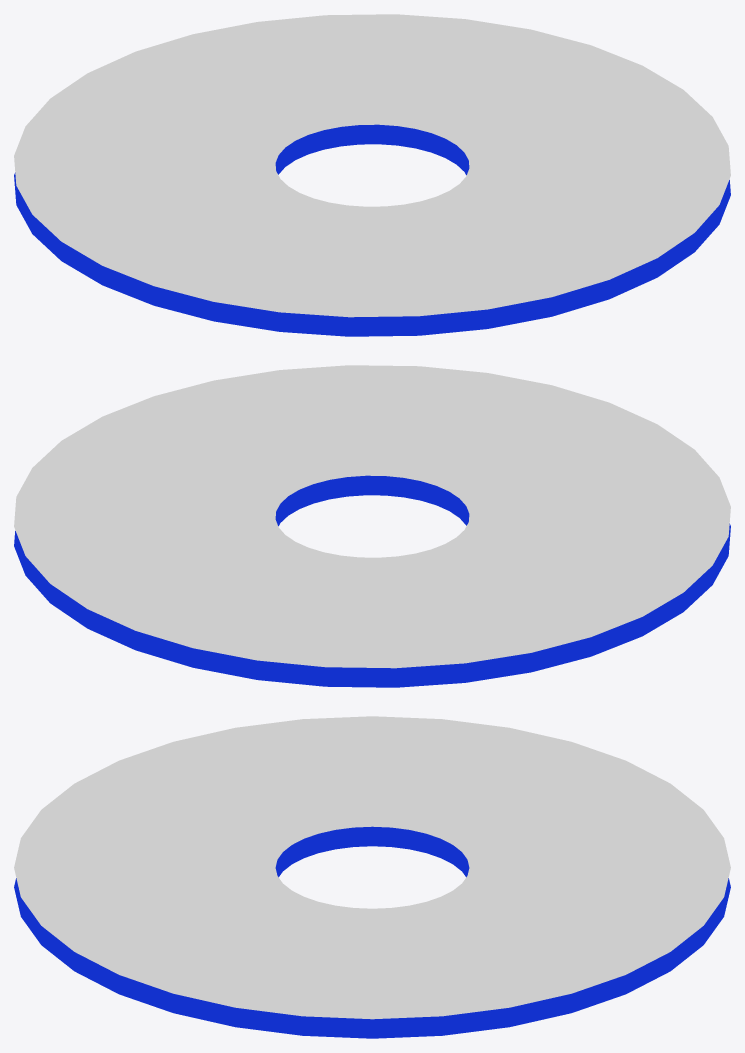
File: disc.glb
3 views of the same model, one above another, from view 1: azimuth 30°, elevation 25°; view 2: azimuth 150°, elevation 25°; view 3: azimuth 270°, elevation 25° (orthographic).
Visible parts, largest first — view 1: Front, Circle; view 2: Front, Circle; view 3: Front, Circle.
Part boxes in pixels (x1,y1,x2,y2): Front: (14,14,730,317); Circle: (14,124,730,336); Front: (14,365,730,668); Circle: (14,475,730,687); Front: (14,716,730,1019); Circle: (14,826,730,1038).
Size of the model in its own units: 2 by 0.06 by 2.
